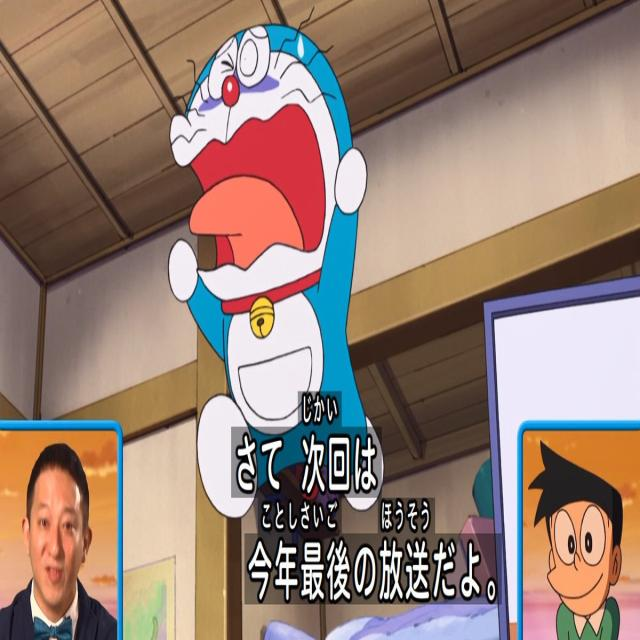doraemon: (159, 11, 383, 409)
suneo: (527, 430, 636, 639)
